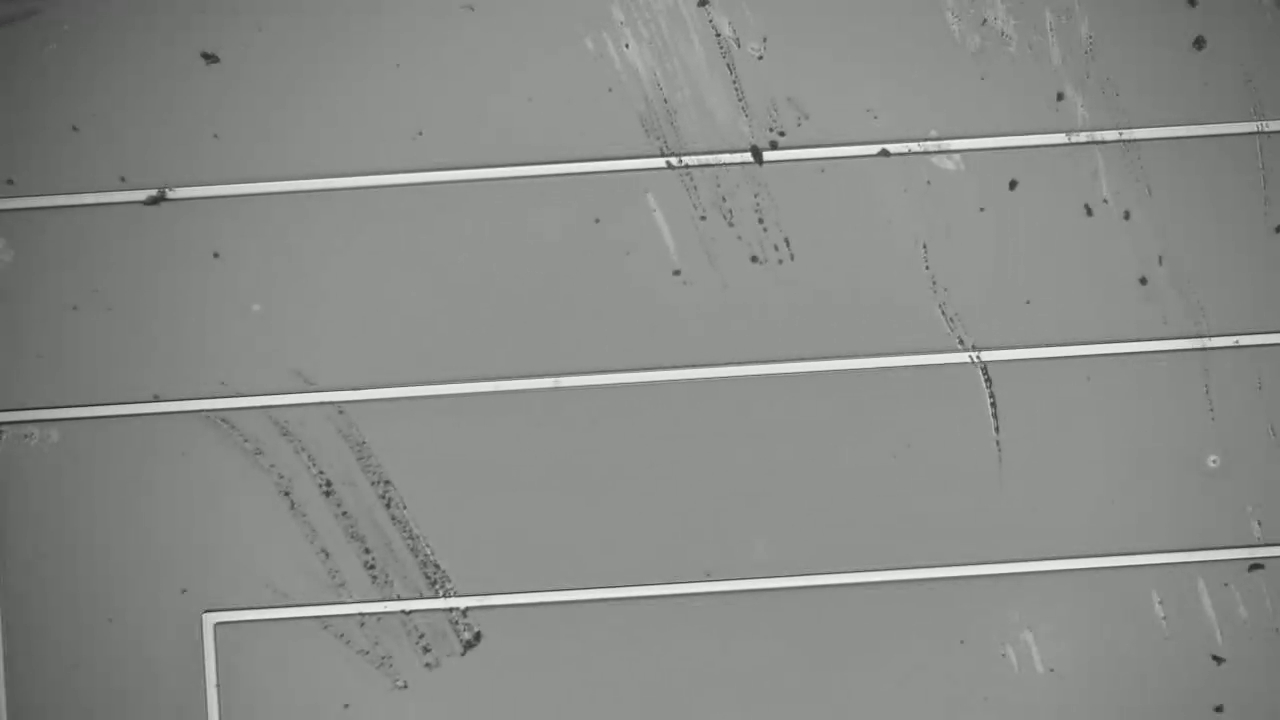scratch: (189, 347, 509, 693), (911, 231, 1013, 468)
stains_enbedded: (142, 181, 175, 212), (746, 140, 767, 172), (875, 137, 895, 166)
